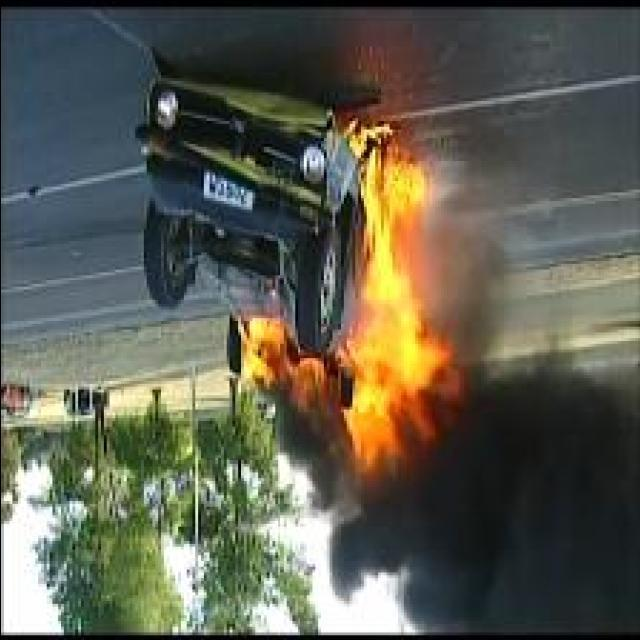Fire: (334, 120, 452, 474), (228, 316, 328, 408)
